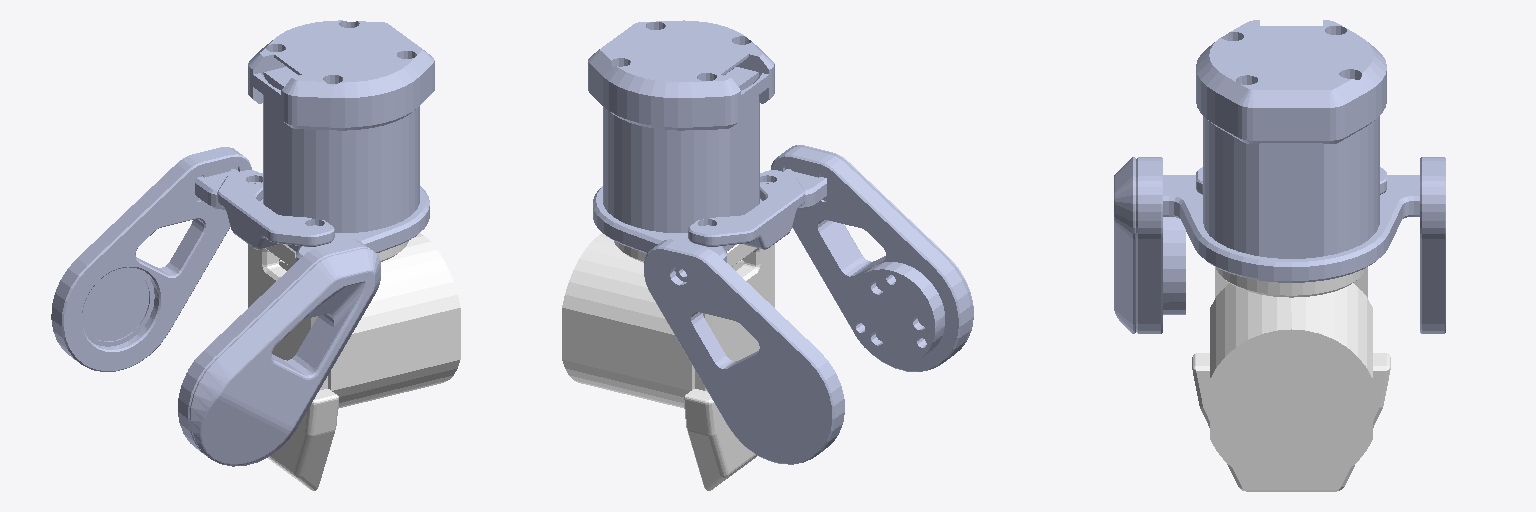
robot.urdf — 总装URDF:
<?xml version="1.0" encoding="utf-8"?>
<!-- This URDF was automatically created by SolidWorks to URDF Exporter! Originally created by Stephen Brawner (brawner@gmail.com) 
     Commit Version: 1.6.0-4-g7f85cfe  Build Version: 1.6.7995.38578
     For more information, please see http://wiki.ros.org/sw_urdf_exporter -->
<robot
  name="总装URDF">
  <link
    name="base_link">
    <inertial>
      <origin
        xyz="-0.0900230484725293 -0.0120821347800044 0.0631139890792473"
        rpy="0 0 0" />
      <mass
        value="2.47741357374595" />
      <inertia
        ixx="0.000969293916923037"
        ixy="-6.64629081925697E-06"
        ixz="-1.57927047552224E-05"
        iyy="0.00166706965202514"
        iyz="4.87888541676276E-07"
        izz="0.00171379805564106" />
    </inertial>
    <visual>
      <origin
        xyz="0 0 0"
        rpy="0 0 0" />
      <geometry>
        <mesh
          filename="package://总装URDF/meshes/base_link.STL" />
      </geometry>
      <material
        name="">
        <color
          rgba="1 1 1 1" />
      </material>
    </visual>
    <collision>
      <origin
        xyz="0 0 0"
        rpy="0 0 0" />
      <geometry>
        <mesh
          filename="package://总装URDF/meshes/base_link.STL" />
      </geometry>
    </collision>
  </link>
  <link
    name="Link1">
    <inertial>
      <origin
        xyz="0.031471447375396 0.0315751076045458 0.0235729357481616"
        rpy="0 0 0" />
      <mass
        value="0.214060387105929" />
      <inertia
        ixx="6.01467971637012E-05"
        ixy="-1.60958177142439E-05"
        ixz="-6.66971511138885E-07"
        iyy="6.70533542920959E-05"
        iyz="-6.49390266138982E-07"
        izz="8.1082327430326E-05" />
    </inertial>
    <visual>
      <origin
        xyz="0 0 0"
        rpy="0 0 0" />
      <geometry>
        <mesh
          filename="package://总装URDF/meshes/Link1.STL" />
      </geometry>
      <material
        name="">
        <color
          rgba="0.792156862745098 0.819607843137255 0.933333333333333 1" />
      </material>
    </visual>
    <collision>
      <origin
        xyz="0 0 0"
        rpy="0 0 0" />
      <geometry>
        <mesh
          filename="package://总装URDF/meshes/Link1.STL" />
      </geometry>
    </collision>
  </link>
  <joint
    name="Link1"
    type="revolute">
    <origin
      xyz="0.0033191 0.018419 0.13141"
      rpy="1.5708 0 0" />
    <parent
      link="base_link" />
    <child
      link="Link1" />
    <axis
      xyz="9.5742E-05 0 1" />
    <limit
      lower="0"
      upper="3.14"
      effort="0"
      velocity="0" />
  </joint>
  <link
    name="Link2">
    <inertial>
      <origin
        xyz="-0.00434607783489679 -4.11496580722797E-07 -0.0825242553144981"
        rpy="0 0 0" />
      <mass
        value="0.152730310890769" />
      <inertia
        ixx="4.05532733034297E-05"
        ixy="6.1761133741232E-10"
        ixz="2.42871619067766E-07"
        iyy="3.41591523204546E-05"
        iyz="1.74226940292492E-11"
        izz="3.44752151238664E-05" />
    </inertial>
    <visual>
      <origin
        xyz="0 0 0"
        rpy="0 0 0" />
      <geometry>
        <mesh
          filename="package://总装URDF/meshes/Link2.STL" />
      </geometry>
      <material
        name="">
        <color
          rgba="1 1 1 1" />
      </material>
    </visual>
    <collision>
      <origin
        xyz="0 0 0"
        rpy="0 0 0" />
      <geometry>
        <mesh
          filename="package://总装URDF/meshes/Link2.STL" />
      </geometry>
    </collision>
  </link>
  <joint
    name="Link2"
    type="fixed">
    <origin
      xyz="0.055002 0.079 0.016495"
      rpy="-1.5708 0 0" />
    <parent
      link="Link1" />
    <child
      link="Link2" />
    <axis
      xyz="0 0 0" />
  </joint>
  <link
    name="Link3">
    <inertial>
      <origin
        xyz="-0.000261800306299996 0.0103070182527014 0.0374905873156564"
        rpy="0 0 0" />
      <mass
        value="0.592395418259202" />
      <inertia
        ixx="0.000284516839857037"
        ixy="1.41682467959398E-06"
        ixz="-1.74224387477283E-06"
        iyy="0.000207735791272296"
        iyz="1.02148200025712E-05"
        izz="0.000332314746797863" />
    </inertial>
    <visual>
      <origin
        xyz="0 0 0"
        rpy="0 0 0" />
      <geometry>
        <mesh
          filename="package://总装URDF/meshes/Link3.STL" />
      </geometry>
      <material
        name="">
        <color
          rgba="0.792156862745098 0.819607843137255 0.933333333333333 1" />
      </material>
    </visual>
    <collision>
      <origin
        xyz="0 0 0"
        rpy="0 0 0" />
      <geometry>
        <mesh
          filename="package://总装URDF/meshes/Link3.STL" />
      </geometry>
    </collision>
  </link>
  <joint
    name="Link3"
    type="fixed">
    <origin
      xyz="0.027999999871668 0 -0.084"
      rpy="-1.5707963267949 0 -1.5707005845624" />
    <parent
      link="Link2" />
    <child
      link="Link3" />
    <axis
      xyz="0 0 0" />
  </joint>
</robot>

--- What the picture shows (computed from the rendered views, not written in the file) ---
Views: 3 orthographic renders of the robot side by side, from view 1: azimuth 30°, elevation 25°; view 2: azimuth 150°, elevation 25°; view 3: azimuth 270°, elevation 25°.
Robot: 总装URDF — 4 links, 3 joints (1 revolute, 2 fixed); root link base_link; default pose: every joint at zero.
Links seen in each view (by area): view 1: Link1, Link2; view 2: Link1, Link2; view 3: Link1, Link2.
Link boxes in pixels (box(x1,y1,x2,y2)): Link1: box(51, 20, 434, 466); Link2: box(248, 233, 460, 490); Link1: box(588, 20, 973, 464); Link2: box(562, 233, 774, 490); Link1: box(1114, 20, 1445, 333); Link2: box(1192, 267, 1390, 491).
Size in the robot's own frame: 0.103 by 0.087 by 0.1334 metres.
Meshes: 4 distinct files referenced, 2 mesh visuals loaded (2 binary STL); not drawn: 2 (reference not matched to a file when rendering).
